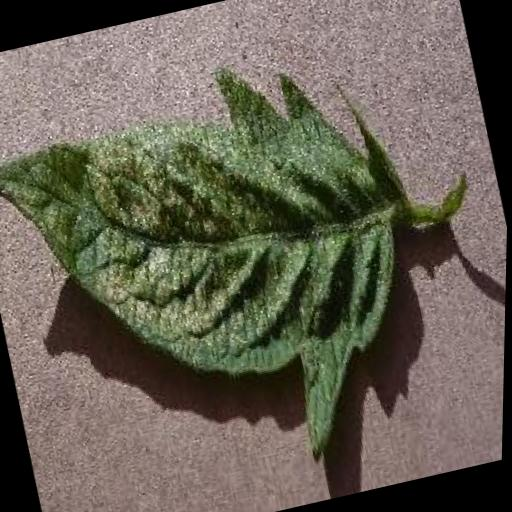Spider Mites: (0, 37, 447, 512)
